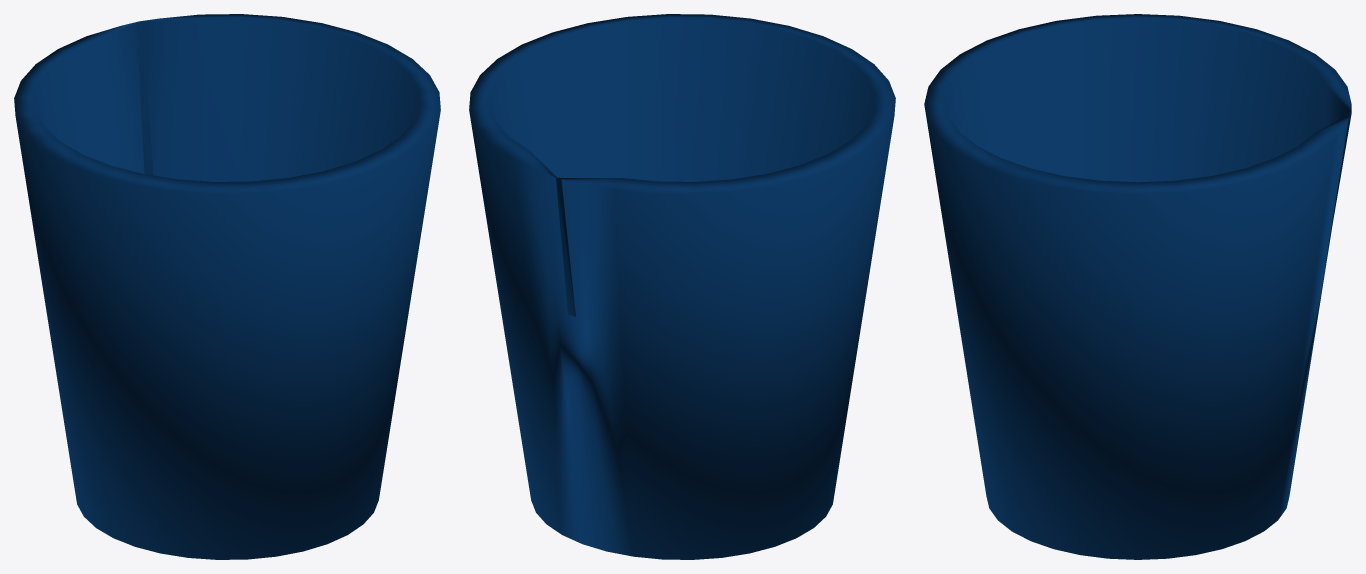
Rendered from waste-basket.dae.
The picture shows the model from 3 angles, left to right: view 1: azimuth 30°, elevation 25°; view 2: azimuth 150°, elevation 25°; view 3: azimuth 270°, elevation 25°; orthographic projection.
Parts seen in each view (by area): view 1: Trash Can; view 2: Trash Can; view 3: Trash Can.
Part boxes in pixels (x1,y1,x2,y2): Trash Can: [14, 14, 440, 559]; Trash Can: [469, 14, 895, 559]; Trash Can: [924, 14, 1351, 559].
Size of the model in its own units: 1.94 by 1.94 by 1.98.
Materials: 1 (1 with a texture image).
